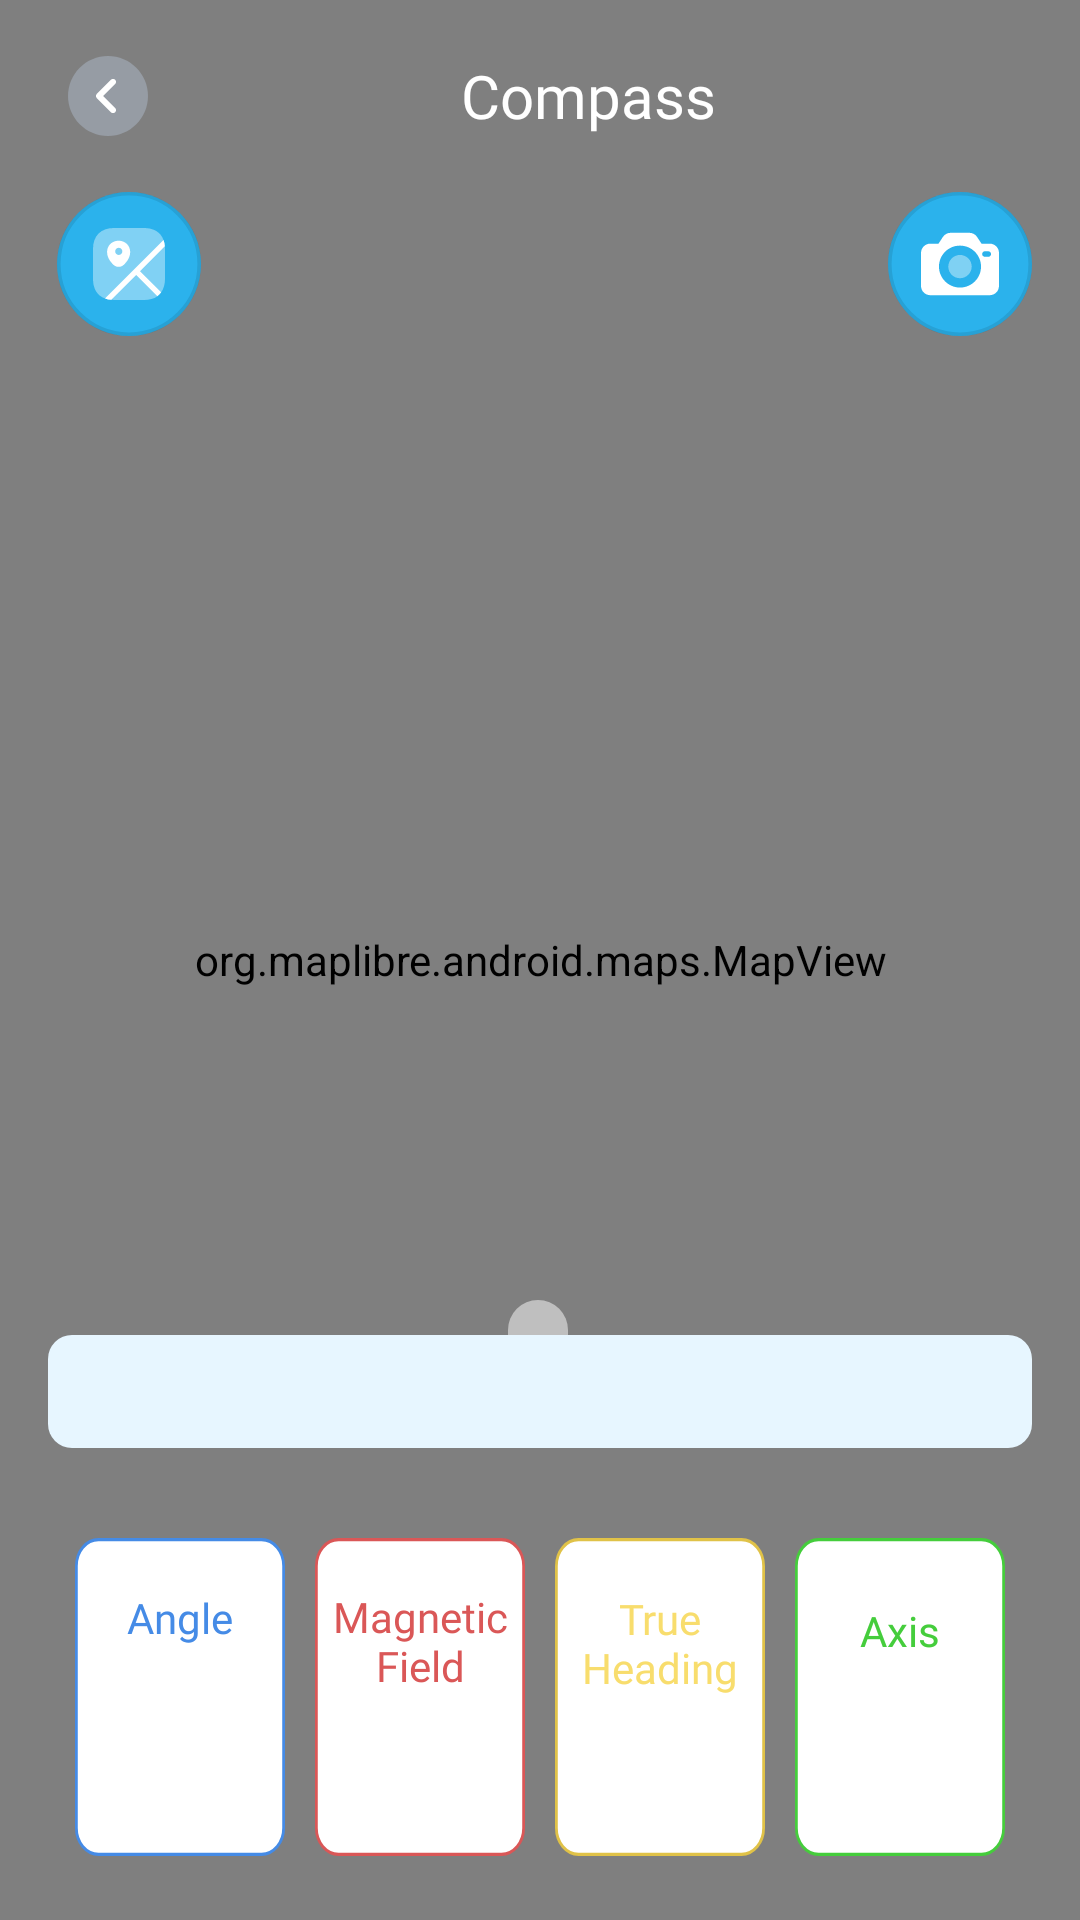

Screen size 1080 x 1920. Icon name, then its center in pixels as (x,y):
back: (108,96)
